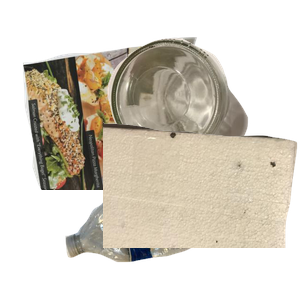glass: (105, 36, 300, 201)
paper: (20, 34, 221, 214)
plastic: (63, 170, 278, 300)
trash: (103, 120, 300, 300)
